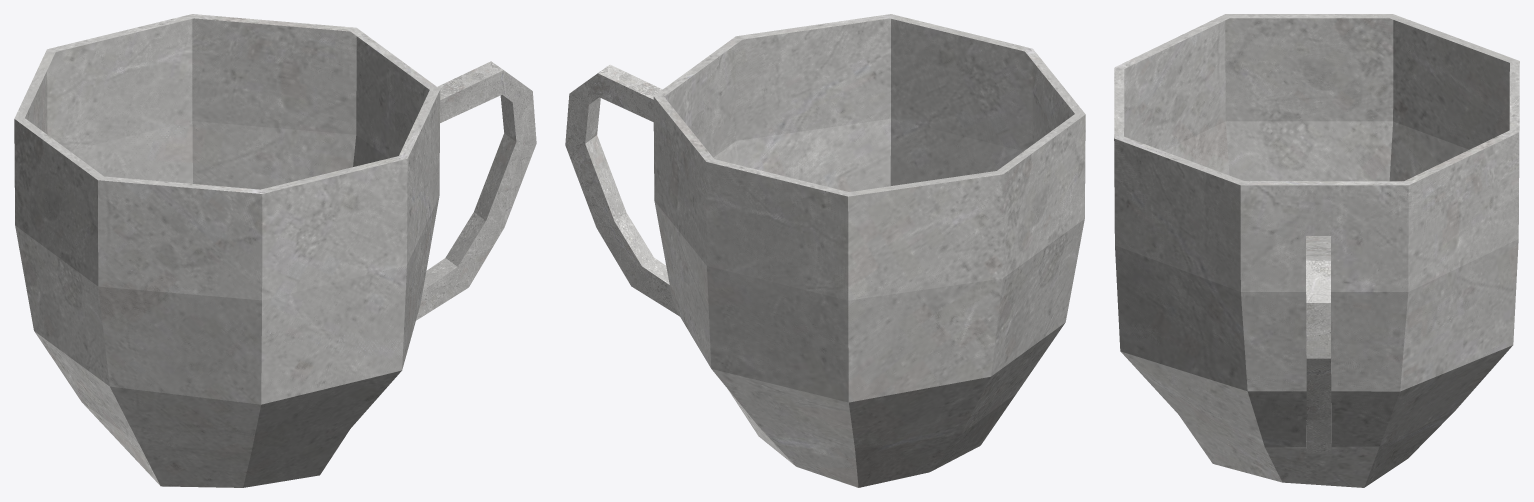
File: Collection.fbx
3 renders of one model, left to right at view 1: azimuth 30°, elevation 25°; view 2: azimuth 150°, elevation 25°; view 3: azimuth 270°, elevation 25°, orthographic. The views are drawn at different scales.
Visible parts, largest first — view 1: dalam, luar, gagang; view 2: dalam, luar, gagang; view 3: dalam, luar, gagang.
Part boxes in pixels (x1,y1,x2,y2): dalam: (14, 14, 440, 487); luar: (14, 14, 439, 487); gagang: (395, 61, 536, 320); dalam: (653, 14, 1085, 487); luar: (654, 14, 1085, 486); gagang: (565, 64, 704, 316); dalam: (1114, 14, 1519, 487); luar: (1114, 14, 1519, 486); gagang: (1306, 236, 1331, 453).
Size of the model in its own units: 2.35 by 1.61 by 1.72.
